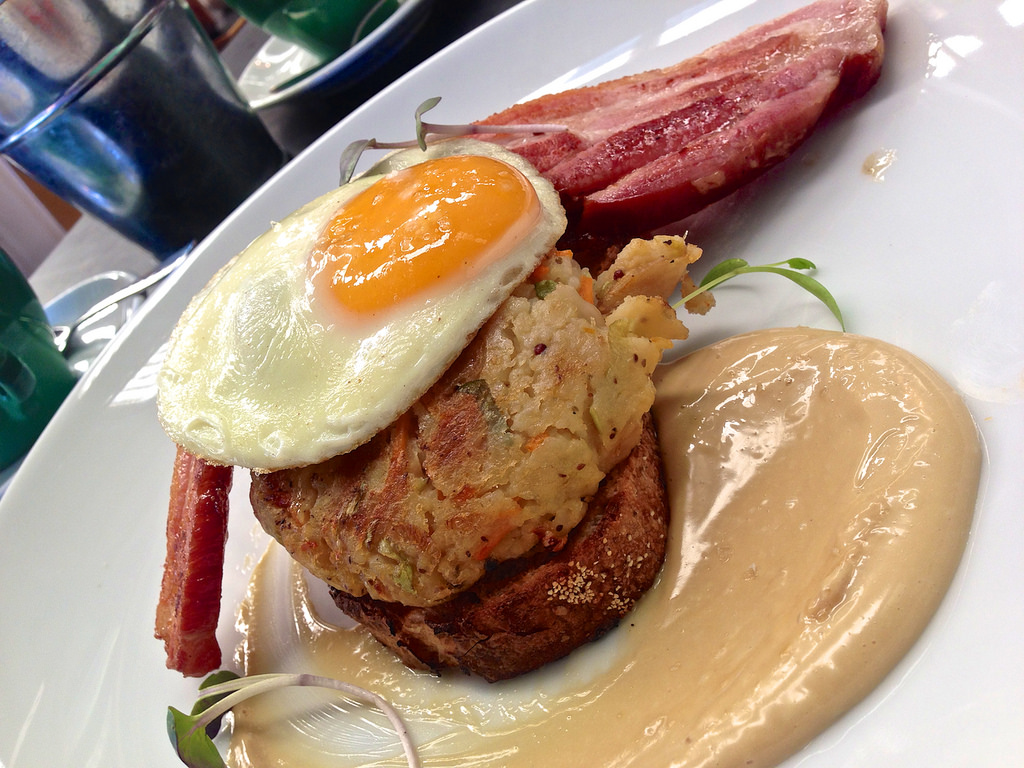fried egg: (173, 131, 556, 462)
